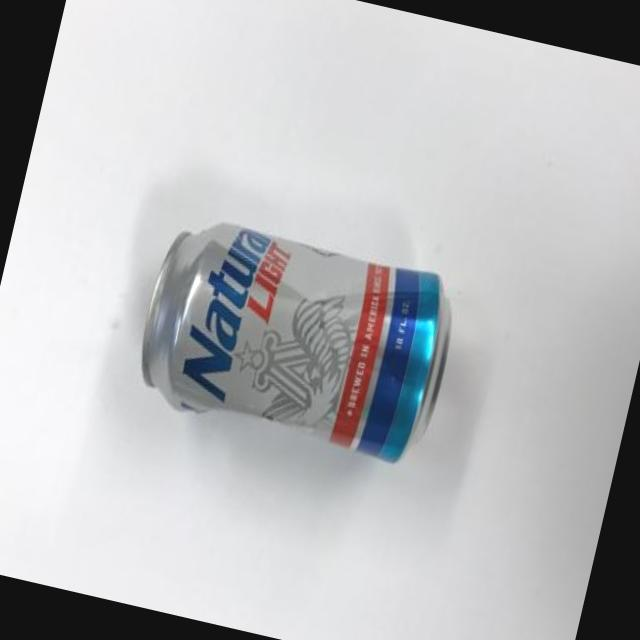kim_loai: (142, 223, 451, 462)
